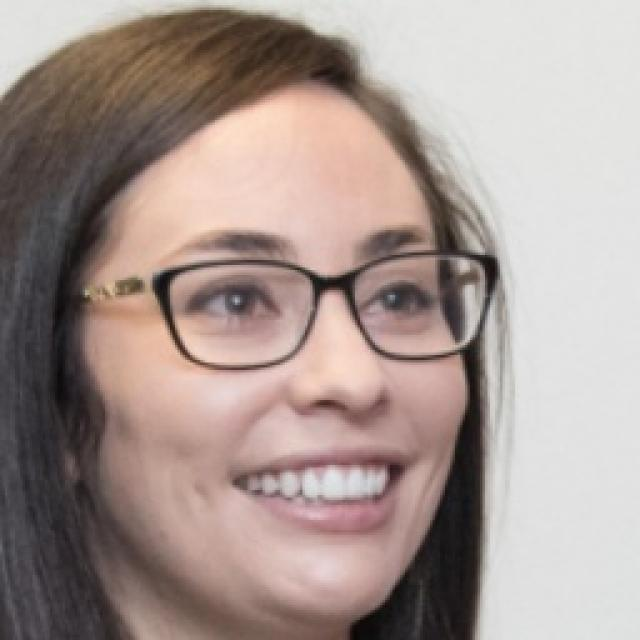glasses: (70, 248, 506, 368)
